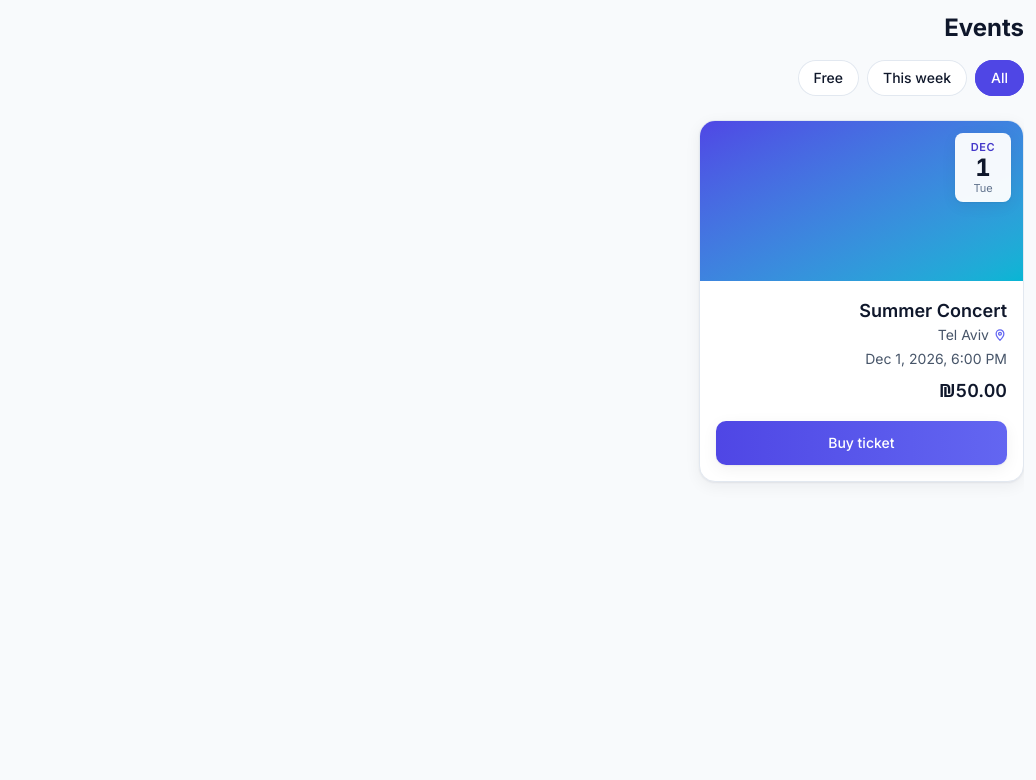
EventsPage › sold out shows the error and stays on the page
The image size is (1036, 780).
Click the button "Buy ticket": {"x": 861, "y": 443} left=716, top=421, right=1007, bottom=465
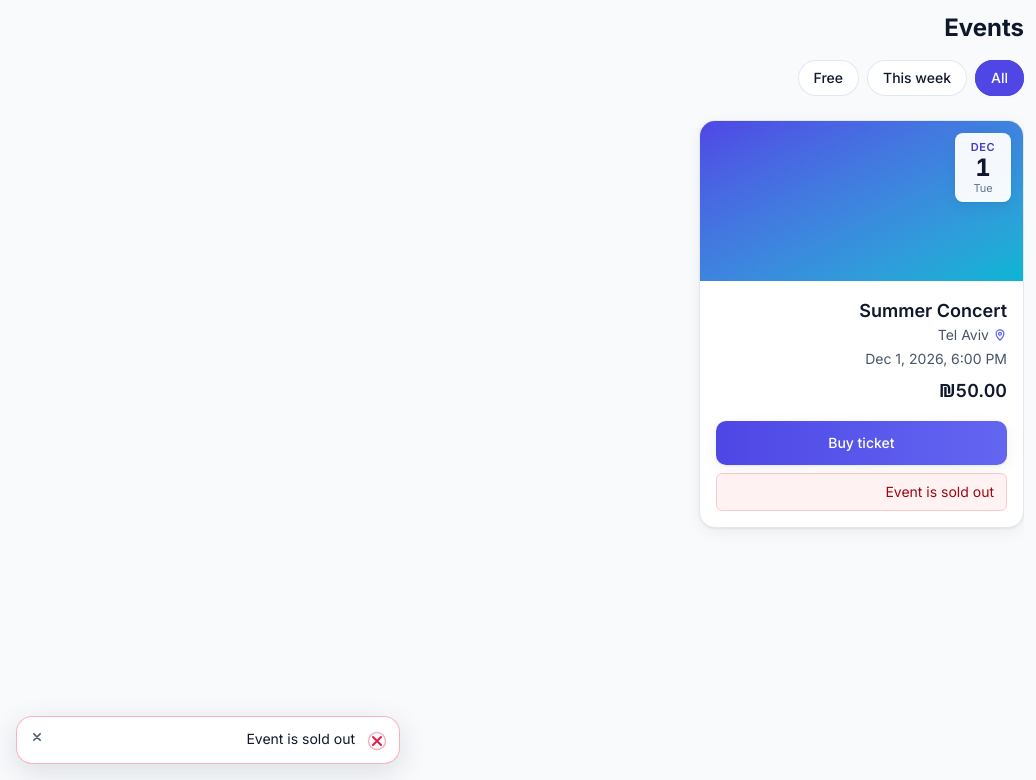
expect the message reads "Event is sold out": met, box left=885, top=483, right=994, bottom=500
expect the element named "Notifications" reads "Event is sold out": met, box left=246, top=730, right=355, bottom=747
